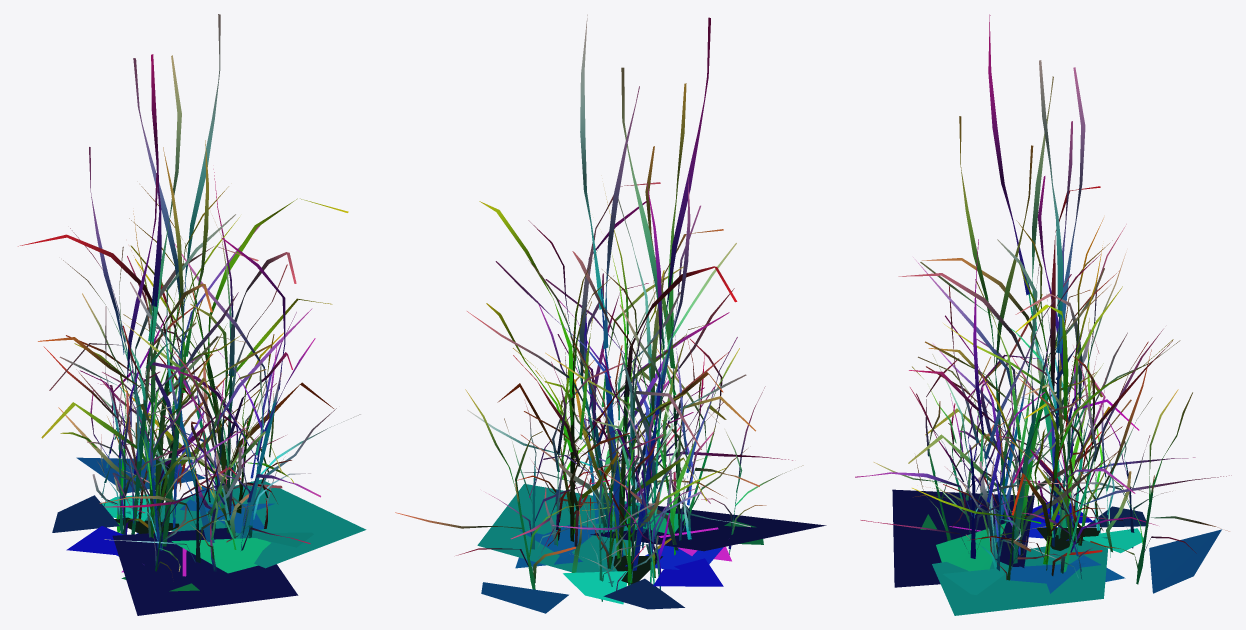
The model's file is Kikuyu_Grass_wiljearqx_Low_wiljearqx_VarA_LOD0.fbx.
3 renders of one model, left to right at view 1: azimuth 30°, elevation 25°; view 2: azimuth 150°, elevation 25°; view 3: azimuth 270°, elevation 25°, orthographic. The views are drawn at different scales.
Visible parts, largest first — view 1: _boto_VarA_LOD3; view 2: _boto_VarA_LOD3; view 3: _boto_VarA_LOD3.
Part boxes in pixels (x1,y1,x2,y2): _boto_VarA_LOD3: [18, 14, 366, 615]; _boto_VarA_LOD3: [395, 14, 826, 613]; _boto_VarA_LOD3: [855, 14, 1231, 615].
Size of the model in its own units: 32.36 by 53.95 by 35.06.
